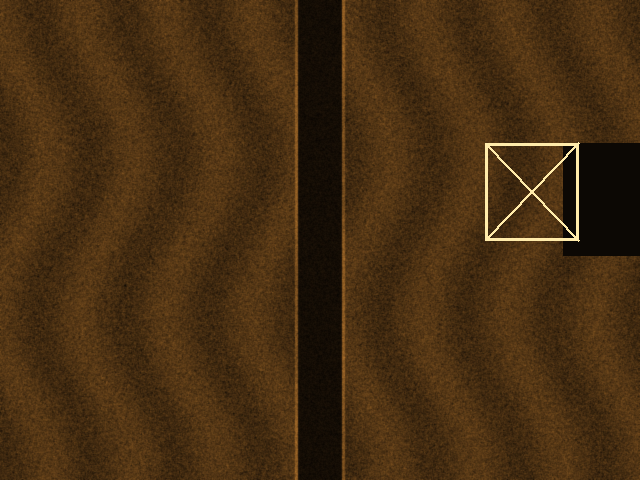Abandoned Equipment: (485, 143, 578, 240)
